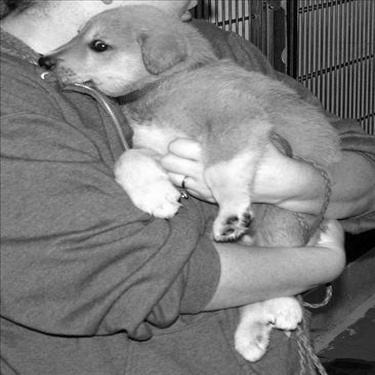dog: (29, 1, 346, 367)
